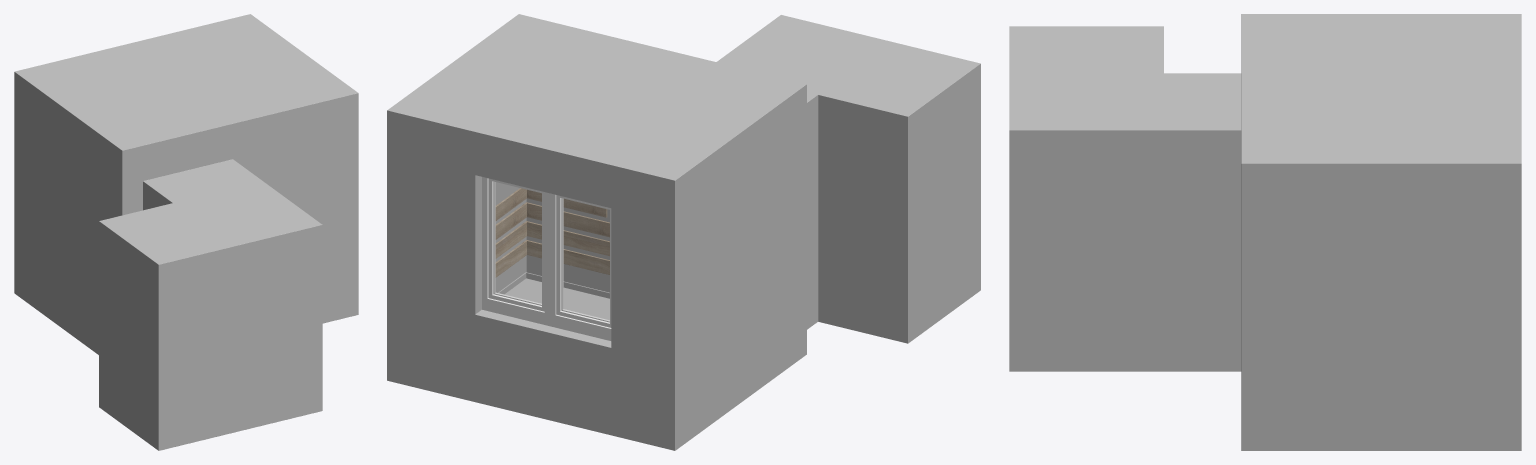
Rendered from Odlegla.obj.
3 views of the same model, side by side, from view 1: azimuth 30°, elevation 25°; view 2: azimuth 150°, elevation 25°; view 3: azimuth 270°, elevation 25° (orthographic). The views are drawn at different scales.
Visible parts, largest first — view 1: Tobiasz; view 2: Tobiasz, Window, Lamele, Tobiasz.001; view 3: Tobiasz.
Part boxes in pixels (x1=…): Tobiasz: x1=14, y1=14, x2=358, y2=450; Tobiasz: x1=387, y1=14, x2=980, y2=450; Window: x1=482, y1=177, x2=611, y2=340; Lamele: x1=495, y1=188, x2=609, y2=277; Tobiasz.001: x1=498, y1=272, x2=609, y2=298; Tobiasz: x1=1009, y1=14, x2=1521, y2=450.
Bounding box in the file's own units: 3.92 × 2.87 × 4.63.
